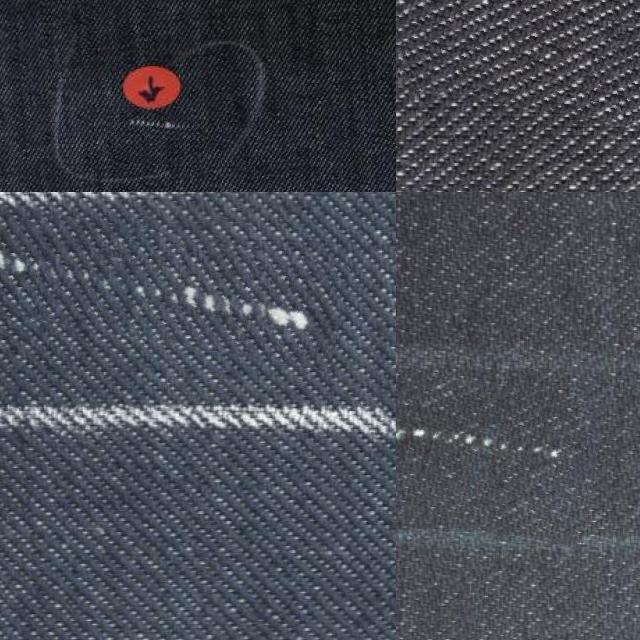Thread_other: (0, 213, 345, 355), (396, 0, 640, 156), (396, 369, 601, 536), (103, 107, 205, 166)
